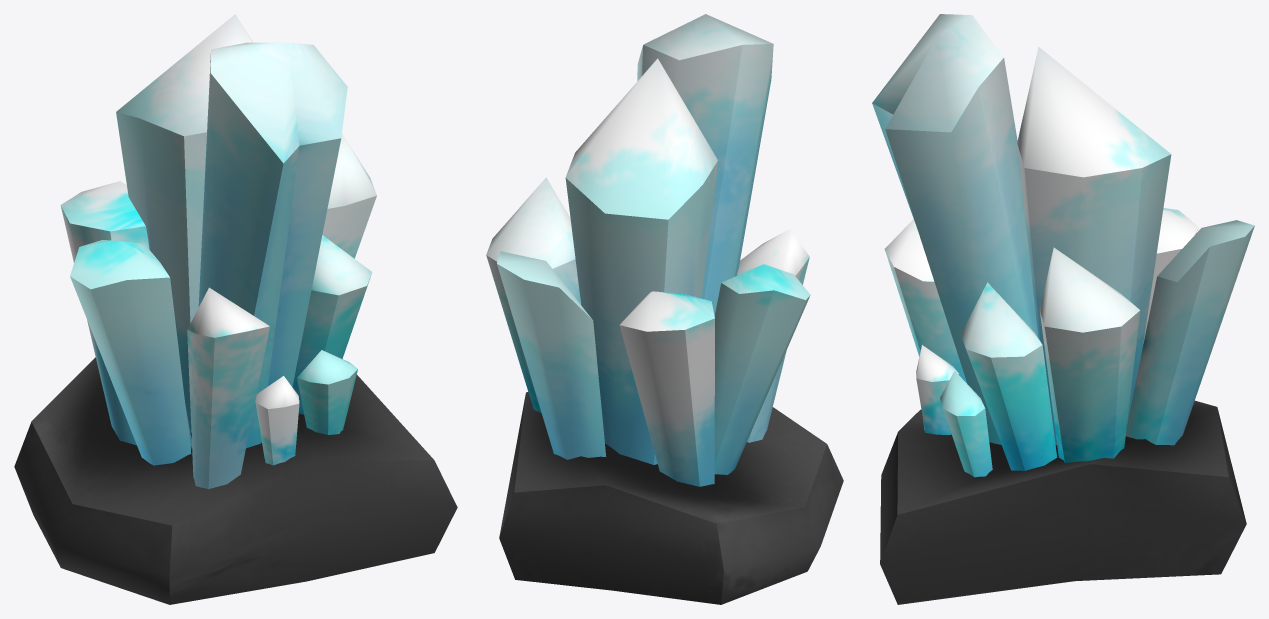
Rendered from SM_diams_RESS.fbx.
The picture shows the model from 3 angles, left to right: view 1: azimuth 30°, elevation 25°; view 2: azimuth 150°, elevation 25°; view 3: azimuth 270°, elevation 25°; orthographic projection. The views are drawn at different scales.
Parts seen in each view (by area): view 1: SM_diams_RESS; view 2: SM_diams_RESS; view 3: SM_diams_RESS.
Boxes of the visible parts, x1=… form: SM_diams_RESS: x1=14, y1=14, x2=457, y2=604; SM_diams_RESS: x1=486, y1=14, x2=843, y2=604; SM_diams_RESS: x1=872, y1=14, x2=1254, y2=604.
Size of the model in its own units: 1.6 by 2.39 by 1.63.
